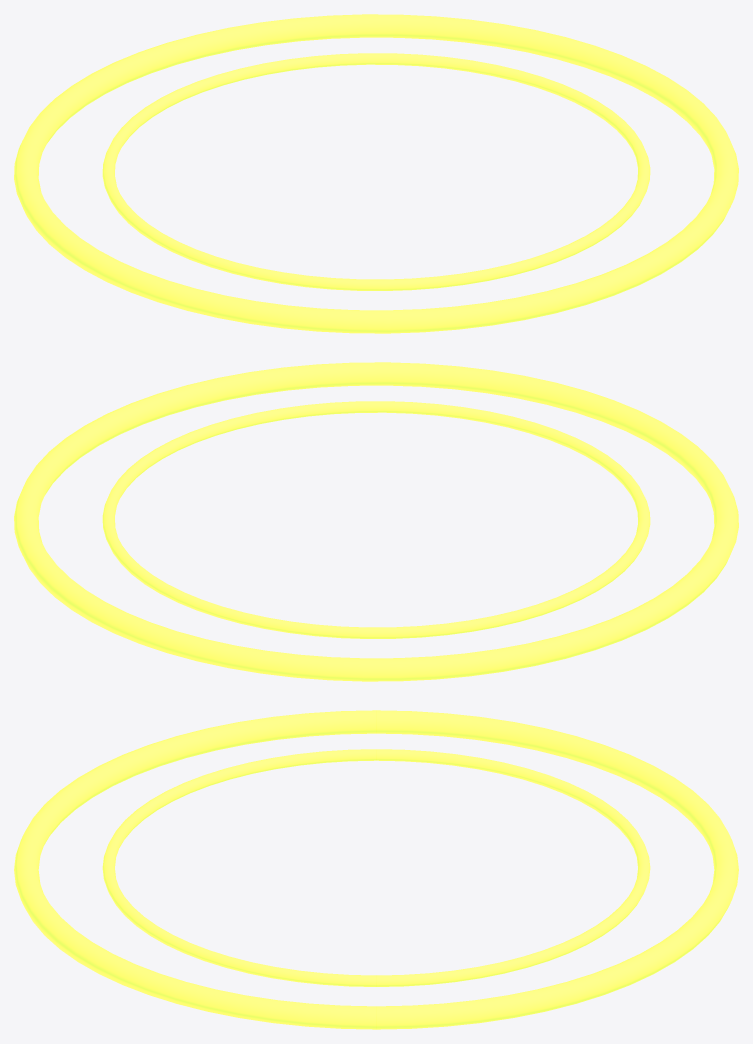
File: effect_aura_female.glb
The picture shows the model from 3 angles, top to bottom: view 1: azimuth 30°, elevation 25°; view 2: azimuth 150°, elevation 25°; view 3: azimuth 270°, elevation 25°; orthographic projection.
Visible parts, largest first — view 1: aura_ring, aura_ring2; view 2: aura_ring, aura_ring2; view 3: aura_ring, aura_ring2.
Boxes of the visible parts, x1=… form: aura_ring: x1=14, y1=14, x2=738, y2=333; aura_ring2: x1=102, y1=53, x2=650, y2=290; aura_ring: x1=14, y1=362, x2=738, y2=681; aura_ring2: x1=102, y1=401, x2=650, y2=638; aura_ring: x1=14, y1=710, x2=738, y2=1029; aura_ring2: x1=102, y1=749, x2=650, y2=986.
Size of the model in its own units: 0.704 by 0.024 by 0.704.
